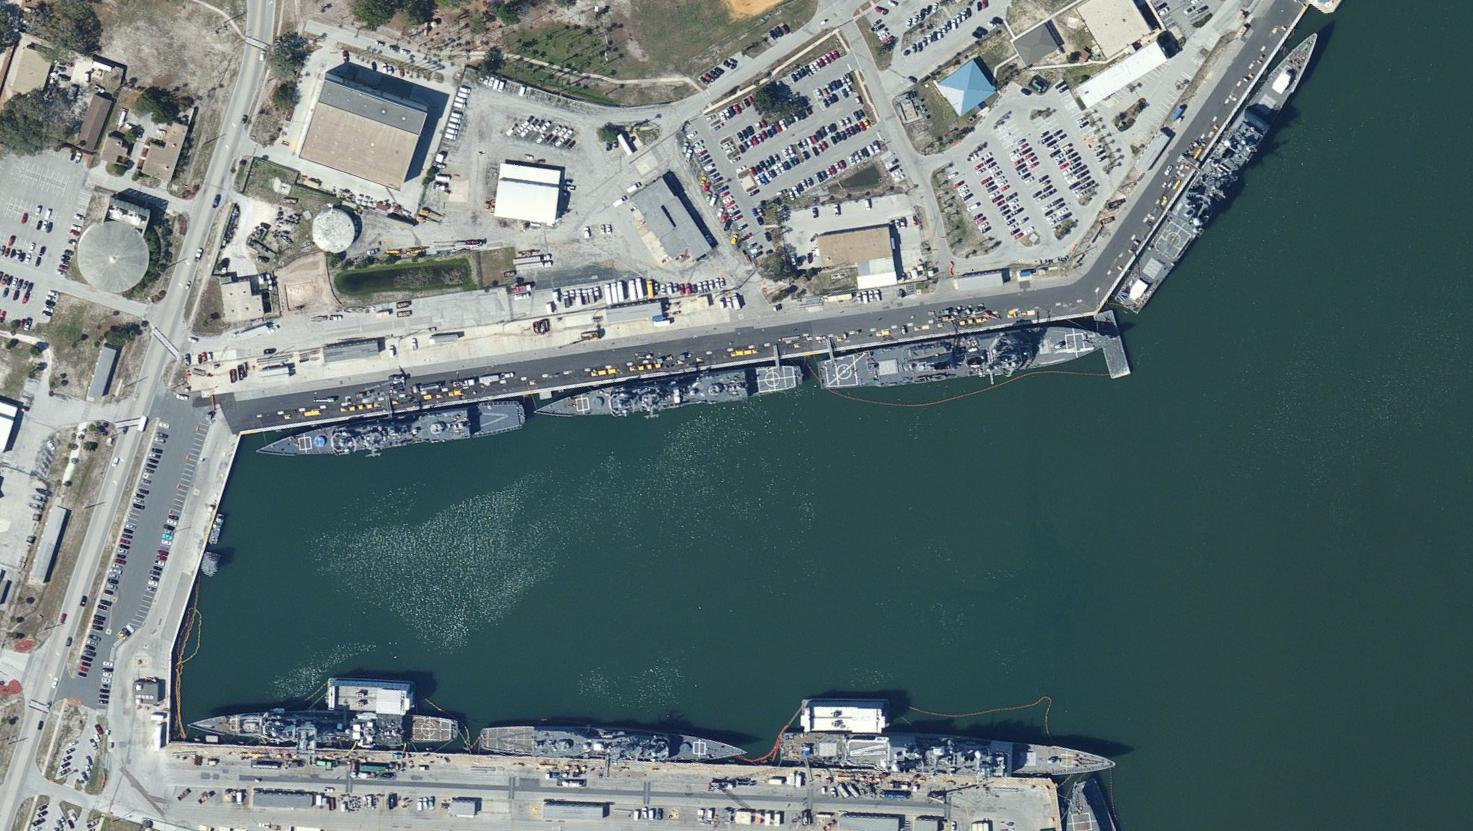cruiser: (1113, 27, 1327, 313)
destroyer: (537, 351, 805, 426), (255, 393, 532, 463), (475, 712, 751, 781), (182, 693, 465, 761)
fregate: (813, 316, 1120, 395)
